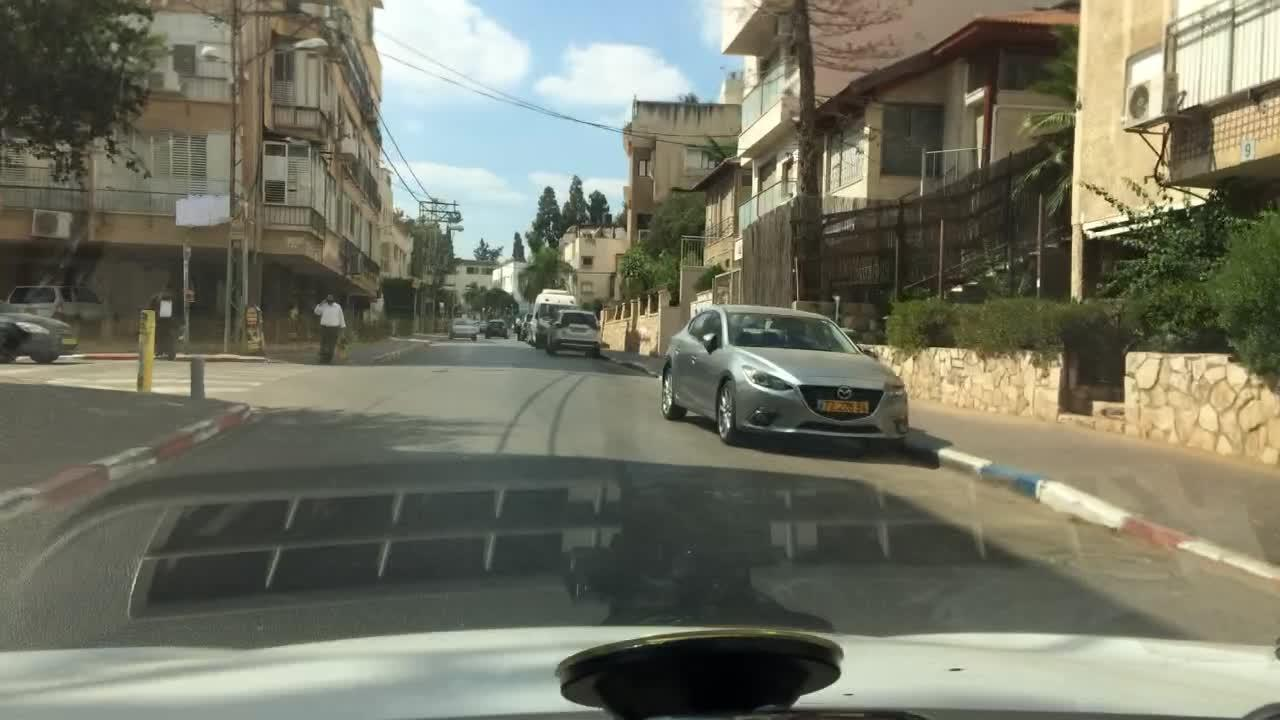Mazda: (834, 381, 856, 405)
